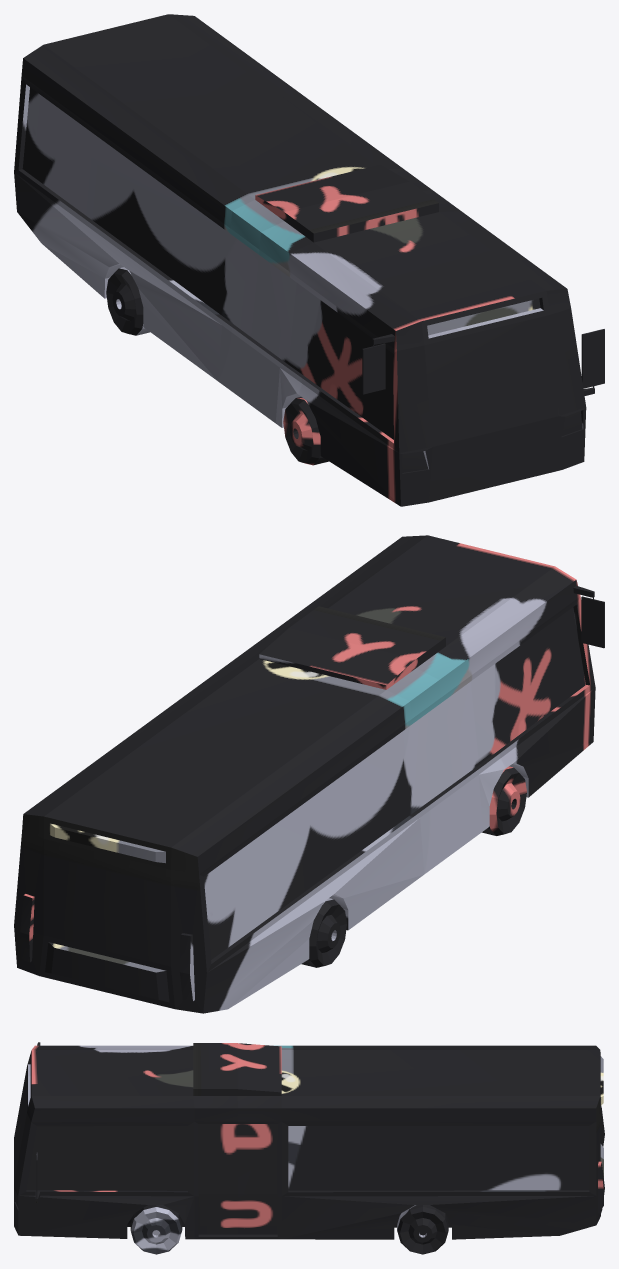
File: SM_Vehicle_Bus.fbx
3 views of the same model, one above another, from view 1: azimuth 30°, elevation 25°; view 2: azimuth 150°, elevation 25°; view 3: azimuth 270°, elevation 25° (orthographic). The views are drawn at different scales.
Visible parts, largest first — view 1: SM_Vehicle_Bus; view 2: SM_Vehicle_Bus; view 3: SM_Vehicle_Bus.
Boxes of the visible parts, x1,y1,x2,y2 form: SM_Vehicle_Bus: [14, 14, 604, 506]; SM_Vehicle_Bus: [14, 535, 604, 1013]; SM_Vehicle_Bus: [14, 1042, 604, 1254].
Bounding box in the file's own units: 3.83 × 10.83 × 3.1.
